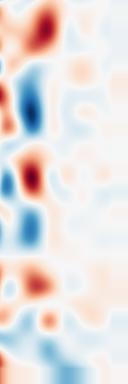filament: (20, 259, 65, 332), (24, 0, 67, 65), (14, 144, 56, 207)
